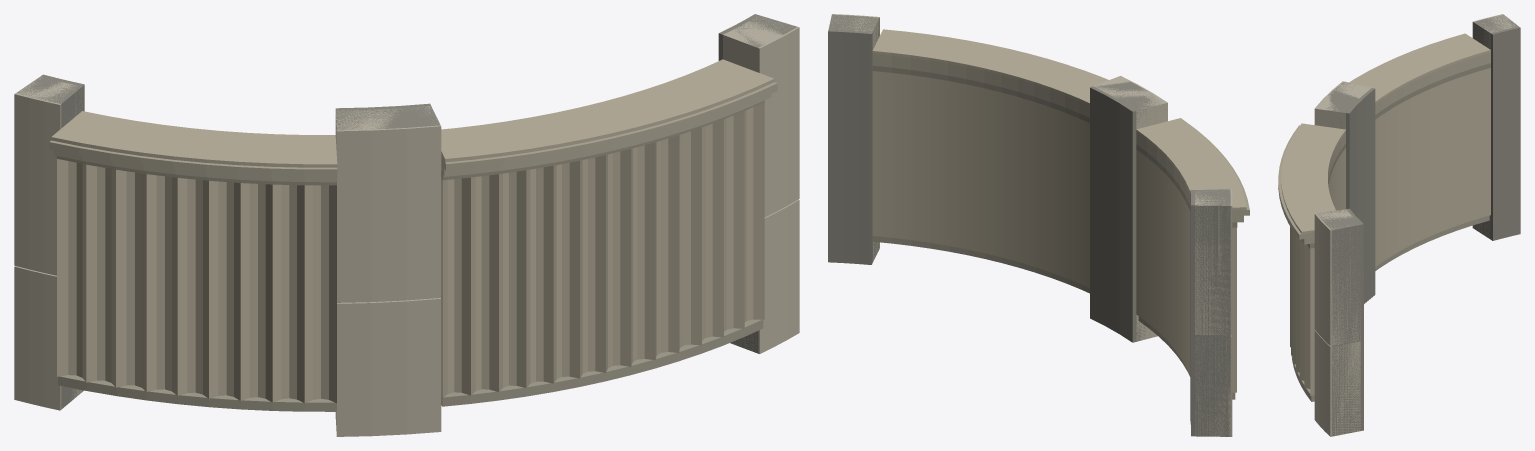
The model's file is huangpu-former-german-post-office-fluted-bow-aprons-lod.glb.
The picture shows the model from 3 angles, left to right: view 1: azimuth 30°, elevation 25°; view 2: azimuth 150°, elevation 25°; view 3: azimuth 270°, elevation 25°; orthographic projection. The views are drawn at different scales.
Parts seen in each view (by area): view 1: 原德国邮局转角弧窗下的竖槽饰板; view 2: 原德国邮局转角弧窗下的竖槽饰板; view 3: 原德国邮局转角弧窗下的竖槽饰板.
Part boxes in pixels (<box>): 原德国邮局转角弧窗下的竖槽饰板: <box>14,14,799,436</box>; 原德国邮局转角弧窗下的竖槽饰板: <box>828,14,1249,436</box>; 原德国邮局转角弧窗下的竖槽饰板: <box>1278,14,1520,436</box>.
Size of the model in its own units: 2.78 by 1.23 by 1.31.
